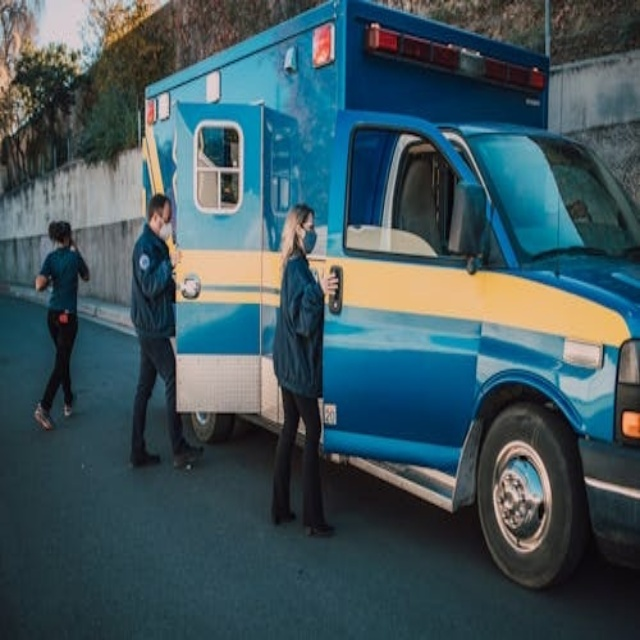Mascara: (151, 211, 175, 238), (296, 223, 319, 248)
